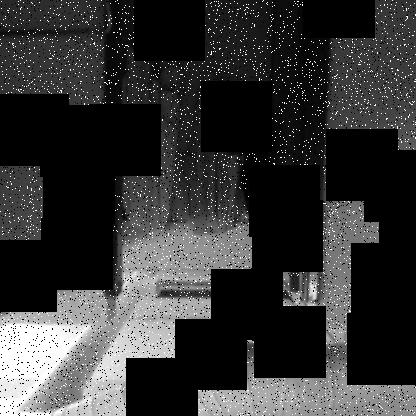Porte: (99, 0, 331, 304)
